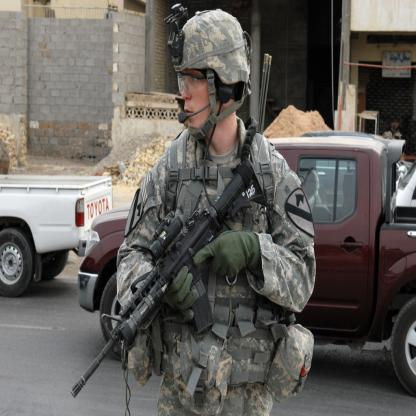Helmet: (171, 11, 254, 143)
